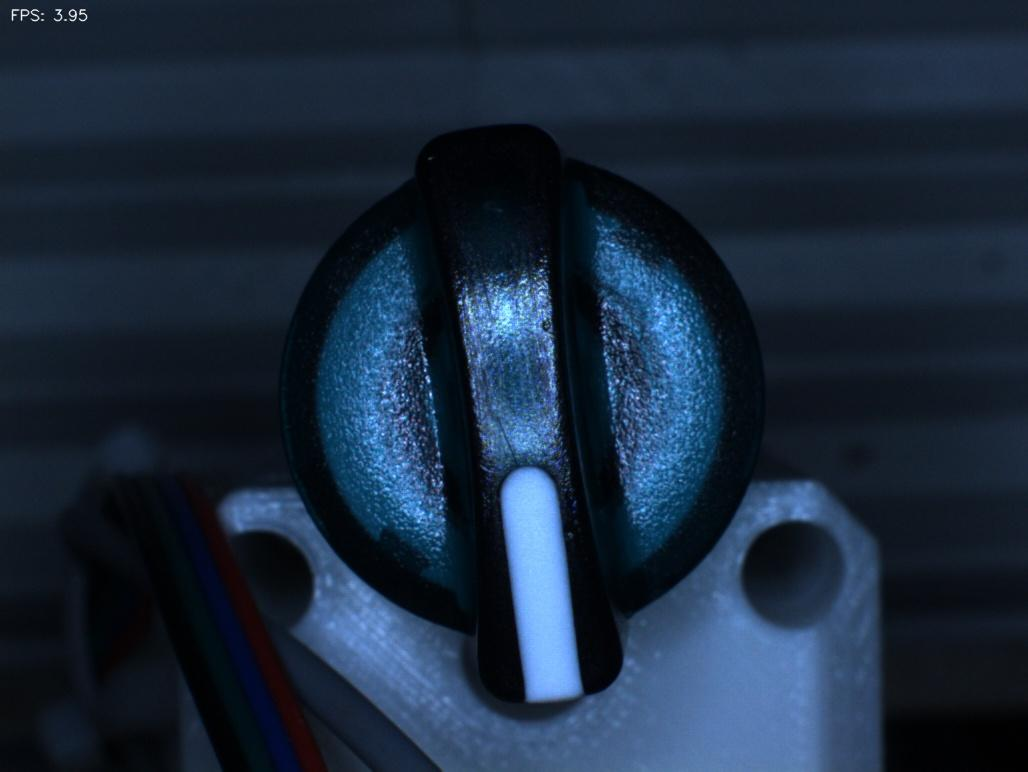Choc: (532, 502, 607, 579)
